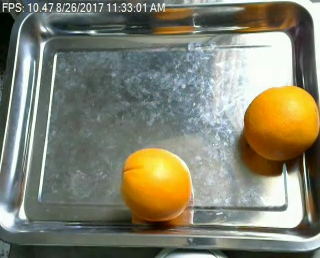Orange: (244, 85, 319, 159), (121, 147, 192, 219)
